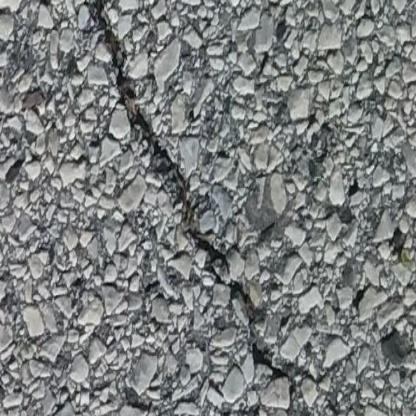Cracks: (80, 0, 327, 416)
